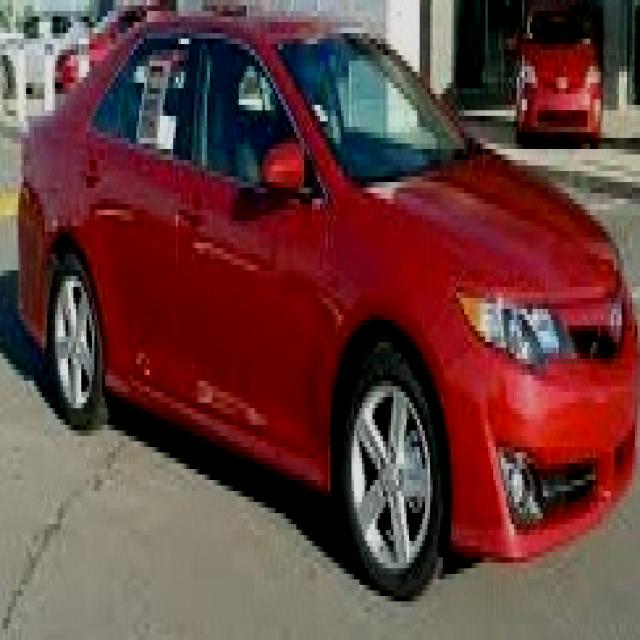red: (1, 9, 636, 550)
